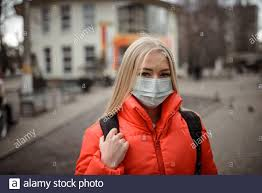with-mask: (117, 36, 181, 108)
